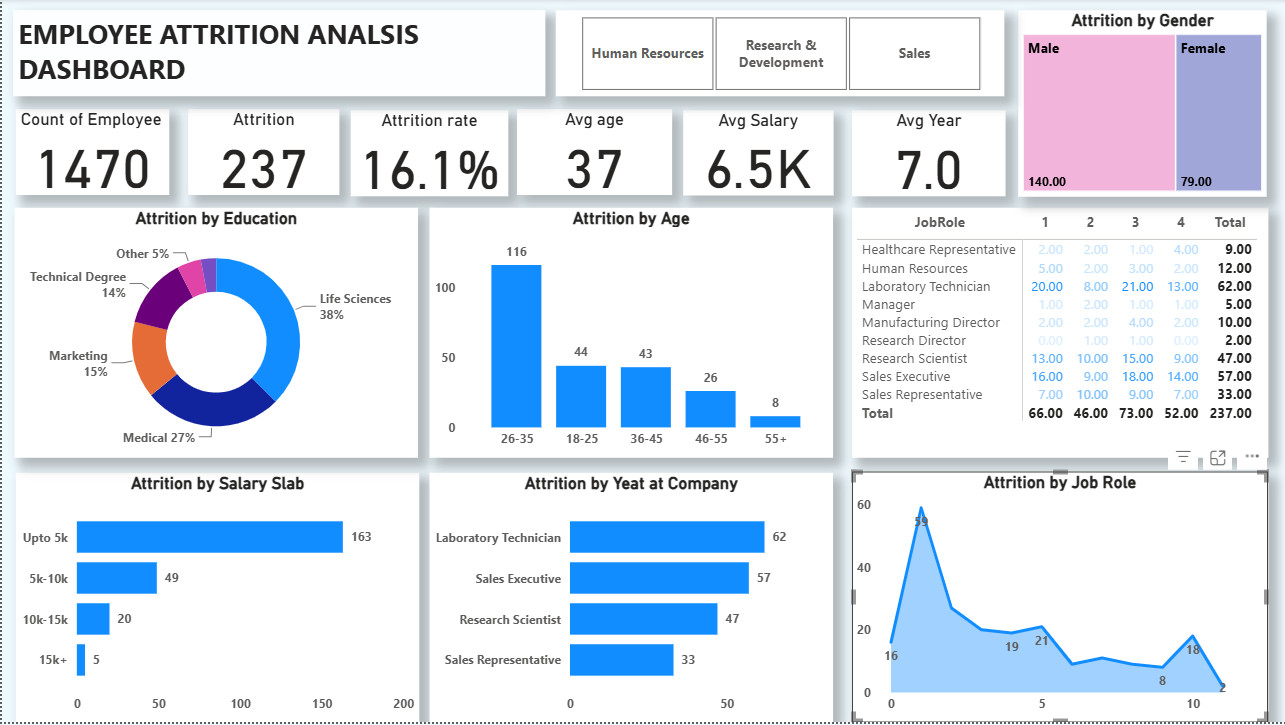

This screenshot's page, from the dashboard's own definition file:
{"tool":"powerbi","page":{"name":"Page 1","canvas":[1280,720],"ordinal":0},"visuals":[{"type":"card","title":"Count of Employee","fields":{"Values":["CountNonNull(HR_Analytics (2).EmpID)"]},"box":[11.3,80.8,153.1,102.1],"z":0},{"type":"card","title":"Attrition","fields":{"Values":["Sum(HR_Analytics (2).Attrition_Count)"]},"box":[177.2,80.8,150.3,102.1],"z":1000},{"type":"card","title":"Attrition rate","fields":{"Values":["HR_Analytics (2).Attritionrate"]},"box":[340.3,80.8,157.4,102.1],"z":2000},{"type":"card","title":"Avg age","fields":{"Values":["Avg(HR_Analytics (2).Age)"]},"box":[513.2,80.8,154.5,102.1],"z":3000},{"type":"card","title":"Avg Salary","fields":{"Values":["Avg(HR_Analytics (2).MonthlyIncome)"]},"box":[676.2,80,150,103.8],"z":4000},{"type":"card","title":"Avg Year","fields":{"Values":["Avg(HR_Analytics (2).YearsAtCompany)"]},"box":[845,80.8,153.1,102.1],"z":5000},{"type":"textbox","box":[11.2,11.2,529.9,59.7],"z":6000},{"type":"barChart","title":" Attrition by Salary Slab","fields":{"Category":["HR_Analytics (2).SalarySlab"],"Y":["Sum(HR_Analytics (2).Attrition_Count)"]},"box":[12.4,457.8,401.8,248.8],"z":7000},{"type":"donutChart","title":" Attrition by Education","fields":{"Category":["HR_Analytics (2).EducationField"],"Y":["Sum(HR_Analytics (2).Attrition_Count)"]},"box":[11.2,194.1,401.8,248.8],"z":8000},{"type":"pivotTable","fields":{"Columns":["HR_Analytics (2).JobSatisfaction"],"Rows":["HR_Analytics (2).JobRole"],"Values":["Sum(HR_Analytics (2).Attrition_Count)"]},"box":[845,194.2,414,248.1],"z":9000},{"type":"columnChart","title":" Attrition by Age","fields":{"Category":["HR_Analytics (2).AgeGroup"],"Y":["Sum(HR_Analytics (2).Attrition_Count)"]},"box":[424.2,194.1,401.8,248.8],"z":10000},{"type":"barChart","title":" Attrition by Yeat at Company","fields":{"Category":["HR_Analytics (2).JobRole"],"Y":["Sum(HR_Analytics (2).Attrition_Count)"]},"box":[425.4,457.8,401.8,248.8],"z":11000},{"type":"areaChart","title":" Attrition by Job Role","fields":{"Category":["HR_Analytics (2).YearsAtCompany"],"Y":["Sum(HR_Analytics (2).Attrition_Count)"]},"box":[845,456.5,414,249.5],"z":12000},{"type":"treemap","title":" Attrition by Gender","fields":{"Group":["HR_Analytics (2).Gender"],"Values":["Sum(HR_Analytics (2).Attrition_Count)"]},"box":[1011.3,11.2,247.5,171.7],"z":13000},{"type":"slicer","fields":{"Values":["HR_Analytics (2).Department"]},"box":[551.1,11.2,446.6,59.7],"z":14000}]}

Visuals, with their boxes in screenshot pixels (x1, y1, x2, y2), scaled from the page's 1280x720 canvas onto the 1285x725 screenshot:
"Count of Employee" card: 11 81 165 184
"Attrition" card: 178 81 329 184
"Attrition rate" card: 342 81 500 184
"Avg age" card: 515 81 670 184
"Avg Salary" card: 679 81 829 185
"Avg Year" card: 848 81 1002 184
textbox: 11 11 543 71
" Attrition by Salary Slab" barChart: 12 461 416 712
" Attrition by Education" donutChart: 11 195 415 446
pivotTable - HR_Analytics (2).JobSatisfaction x HR_Analytics (2).JobRole: 848 196 1264 445
" Attrition by Age" columnChart: 426 195 829 446
" Attrition by Yeat at Company" barChart: 427 461 830 712
" Attrition by Job Role" areaChart: 848 460 1264 711
" Attrition by Gender" treemap: 1015 11 1264 184
slicer - HR_Analytics (2).Department: 553 11 1002 71
